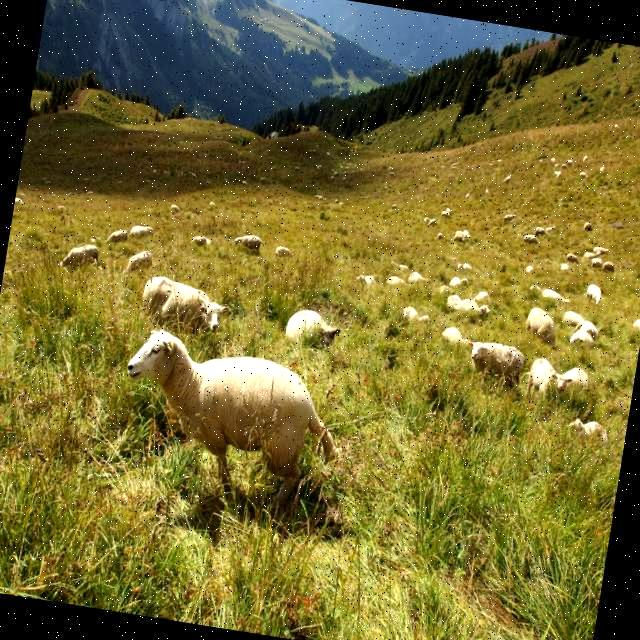sheep: (126, 329, 333, 490), (142, 276, 229, 333), (59, 244, 96, 265)
